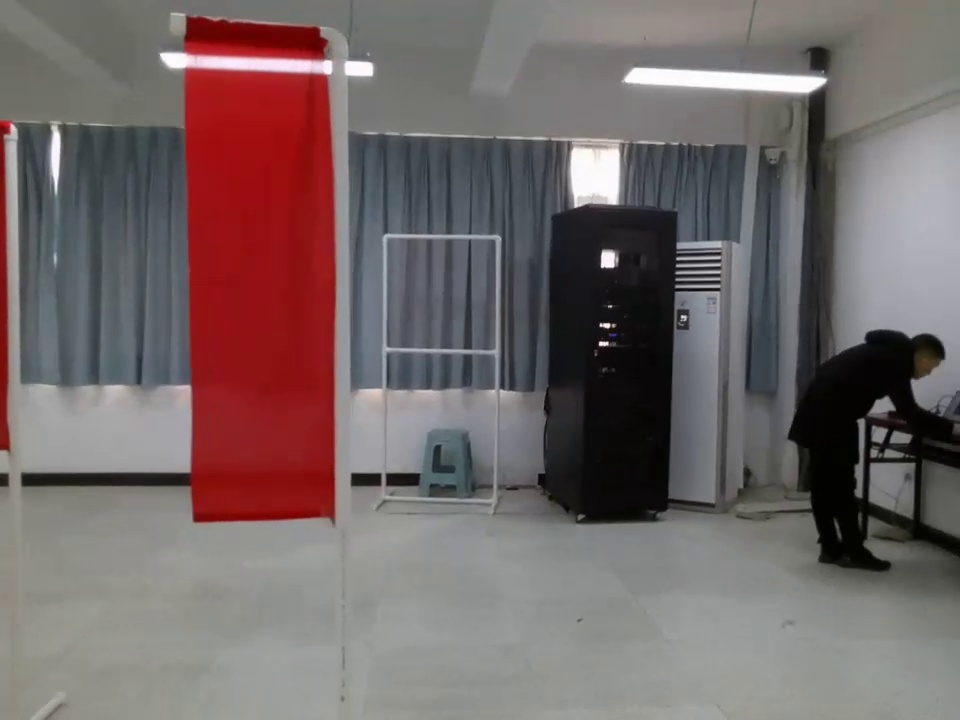qi: (175, 9, 357, 549)
